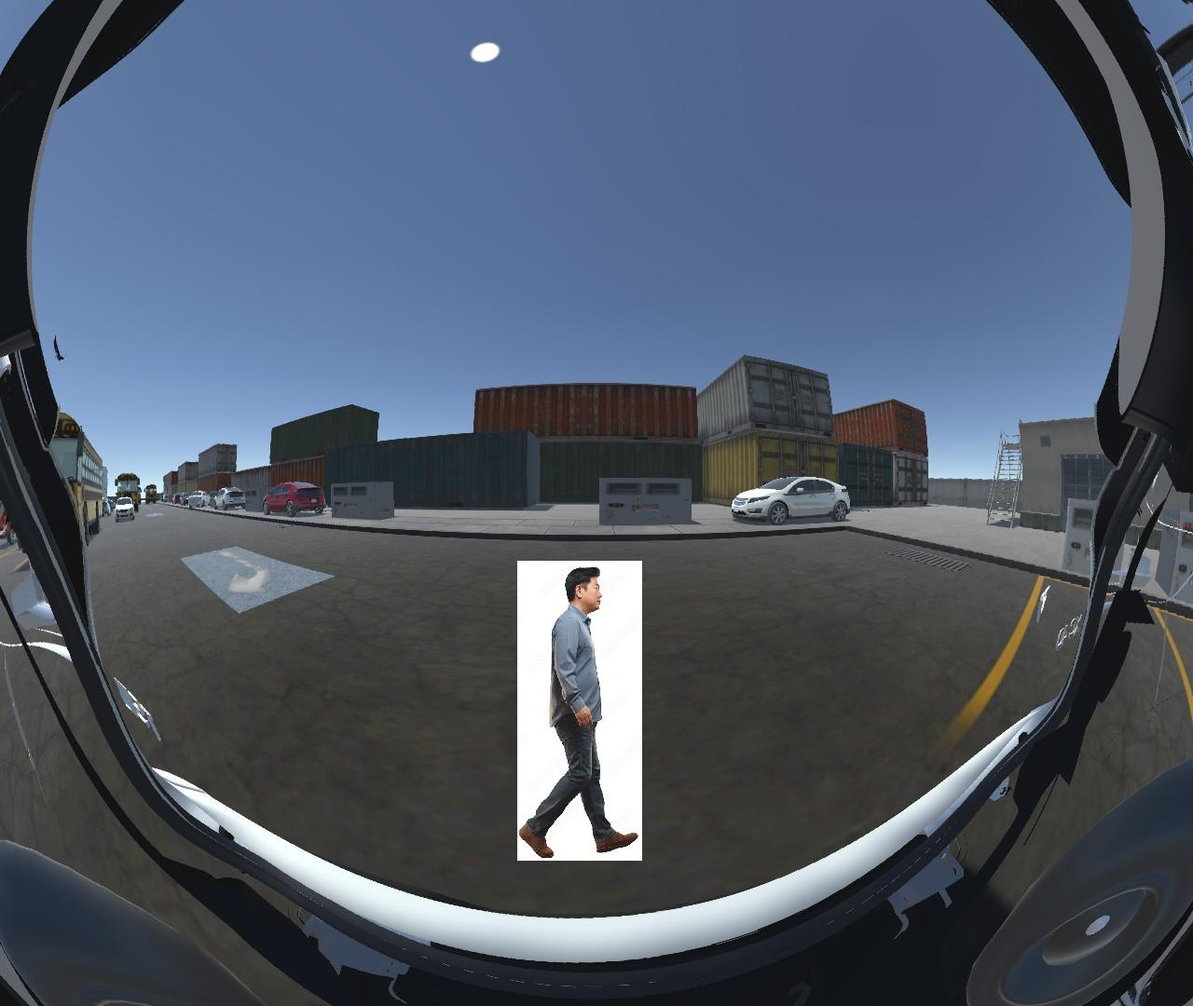objects: (513, 561, 646, 867)
